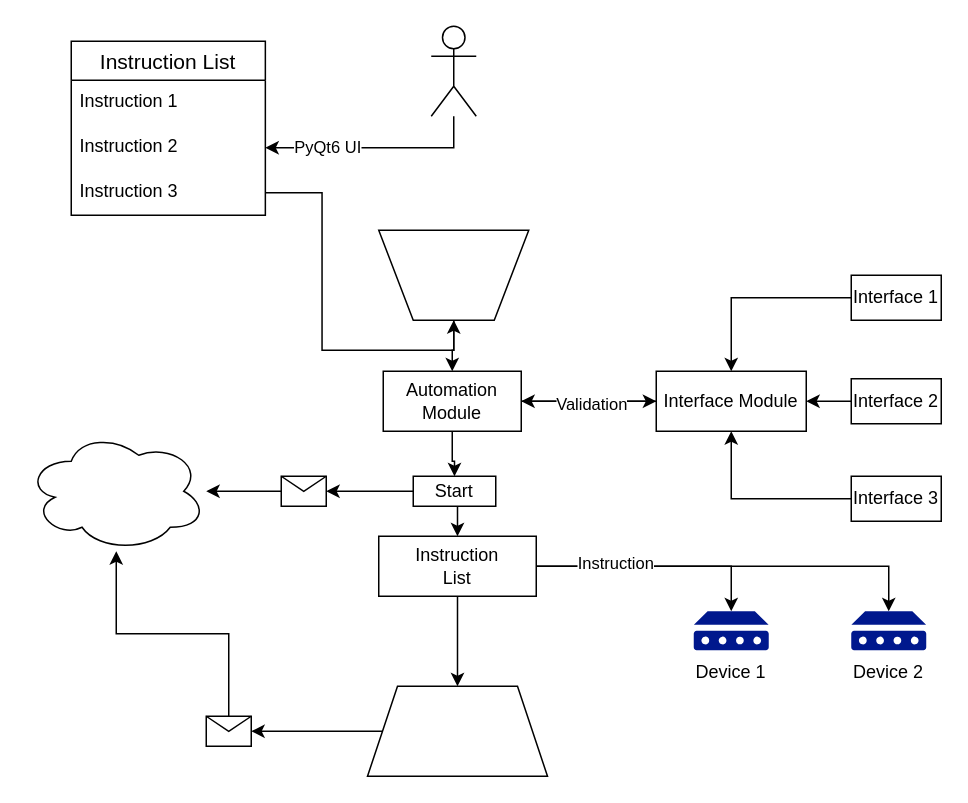
The diagram is 968 pixels wide and 803 high, and some of its shapes have lost their labels. Here are the shapes that lost their labels. From the top down, the box of each, then its label:
(430, 25, 476, 116): User
(377, 229, 529, 320): Instruction Sequence
(25, 430, 206, 551): SMTP Server
(366, 685, 548, 776): Finished Sequence
